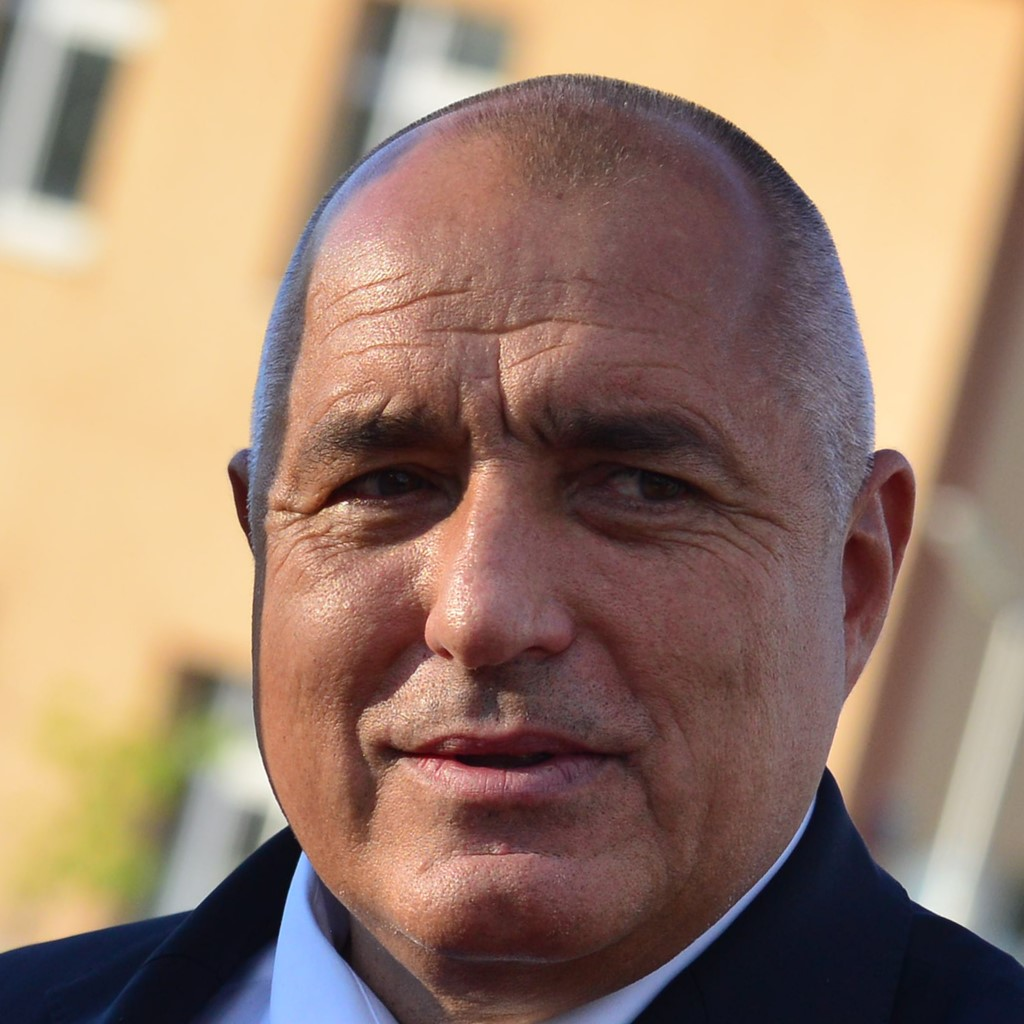sin_mascara: (225, 124, 882, 952)
